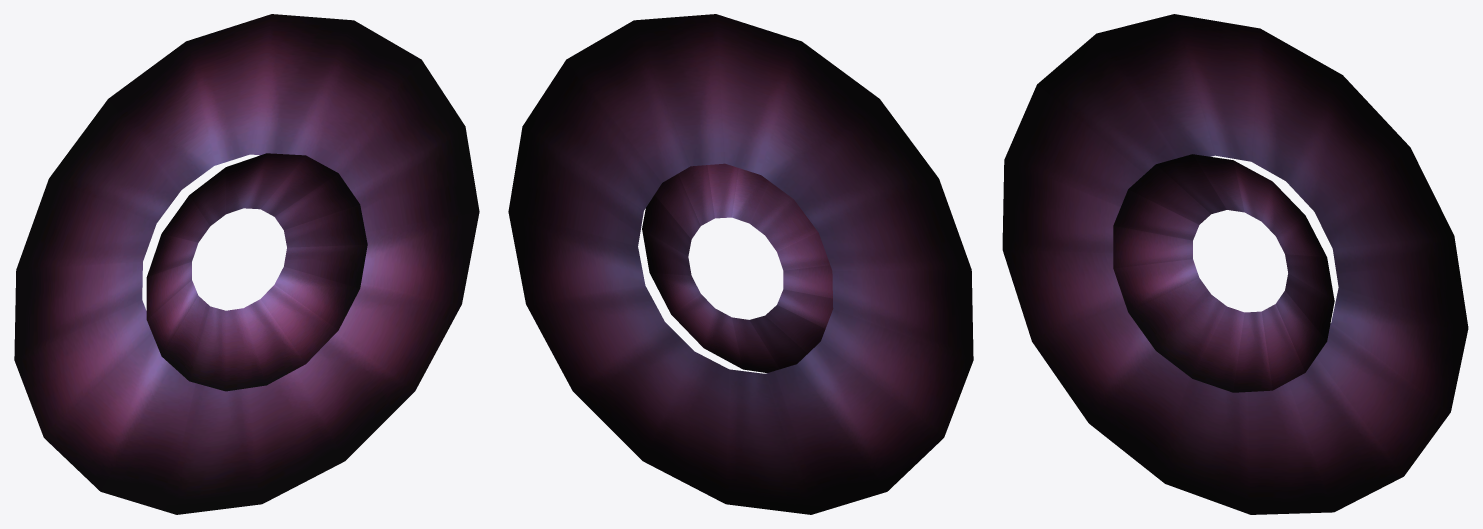
File: tx_dancer_fangyuguanghuan_hit.obj
3 views of the same model, side by side, from view 1: azimuth 30°, elevation 25°; view 2: azimuth 150°, elevation 25°; view 3: azimuth 330°, elevation 25° (orthographic).
Parts seen in each view (by area): view 1: Cylinder09, Cylinder07; view 2: Cylinder09, Cylinder07; view 3: Cylinder09, Cylinder07.
Part boxes in pixels (left/top/right/bottom): Cylinder09: left=14, top=14, right=479, bottom=514; Cylinder07: left=146, top=153, right=367, bottom=391; Cylinder09: left=508, top=14, right=973, bottom=514; Cylinder07: left=642, top=163, right=833, bottom=372; Cylinder09: left=1002, top=14, right=1468, bottom=514; Cylinder07: left=1113, top=154, right=1334, bottom=392.
Bounding box in the file's own units: 142 × 142 × 9.05.
1 material, 1 textured.
